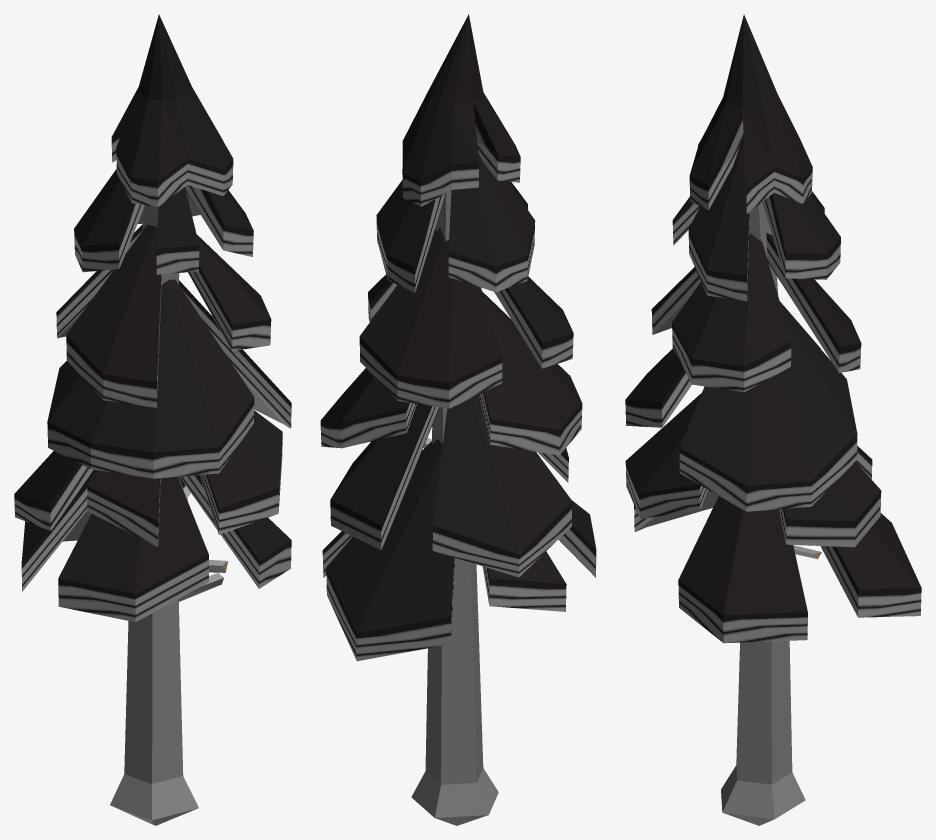
File: SM_Gen_Env_Tree_Pine_03.glb
3 views of the same model, side by side, from view 1: azimuth 30°, elevation 25°; view 2: azimuth 150°, elevation 25°; view 3: azimuth 270°, elevation 25° (orthographic).
Visible parts, largest first — view 1: SM_Gen_Env_Tree_Pine_03; view 2: SM_Gen_Env_Tree_Pine_03; view 3: SM_Gen_Env_Tree_Pine_03.
Part boxes in pixels (x1,y1,x2,y2): SM_Gen_Env_Tree_Pine_03: [14, 14, 291, 825]; SM_Gen_Env_Tree_Pine_03: [320, 14, 596, 825]; SM_Gen_Env_Tree_Pine_03: [625, 14, 921, 825].
Size of the model in its own units: 2.12 by 6.76 by 2.24.
1 material, 1 textured.
